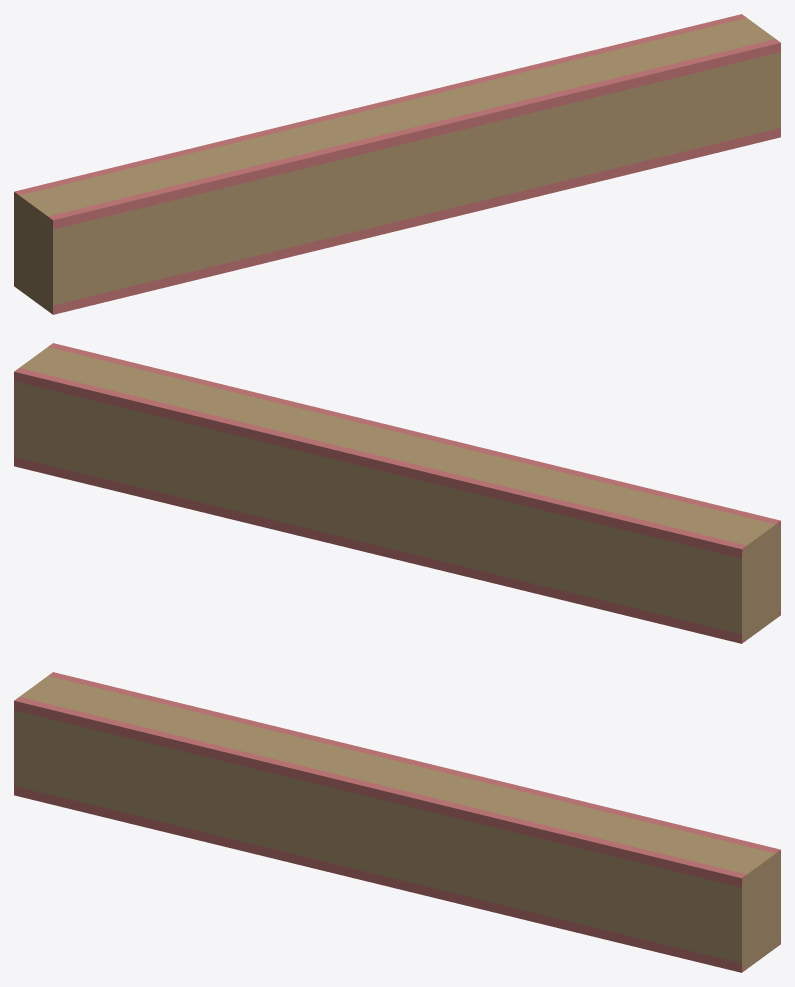
Rendered from step_02.glb.
3 views of the same model, one above another, from view 1: azimuth 30°, elevation 25°; view 2: azimuth 150°, elevation 25°; view 3: azimuth 330°, elevation 25° (orthographic).
Parts seen in each view (by area): view 1: part__oak fender, removed__oak fender; view 2: part__oak fender, removed__oak fender; view 3: part__oak fender, removed__oak fender.
Part boxes in pixels (x1,y1,x2,y2): part__oak fender: (14,18,780,311); removed__oak fender: (14,14,780,314); part__oak fender: (14,347,780,640); removed__oak fender: (14,343,780,643); part__oak fender: (14,676,780,969); removed__oak fender: (14,672,780,972).
Bounding box in the file's own units: 1610 × 200 × 150.
